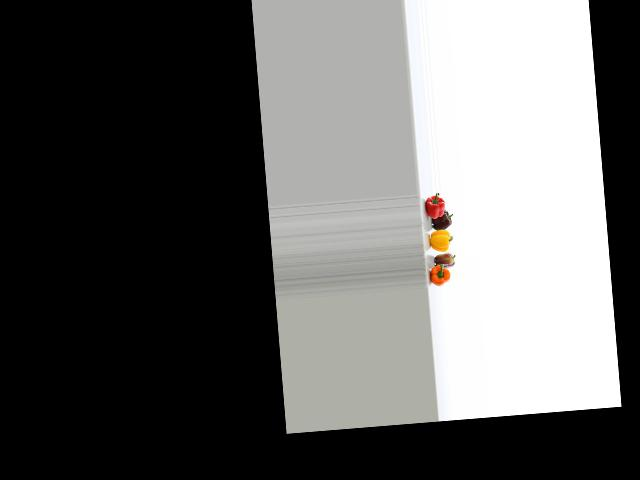bell_pepper: (426, 262, 457, 287)
